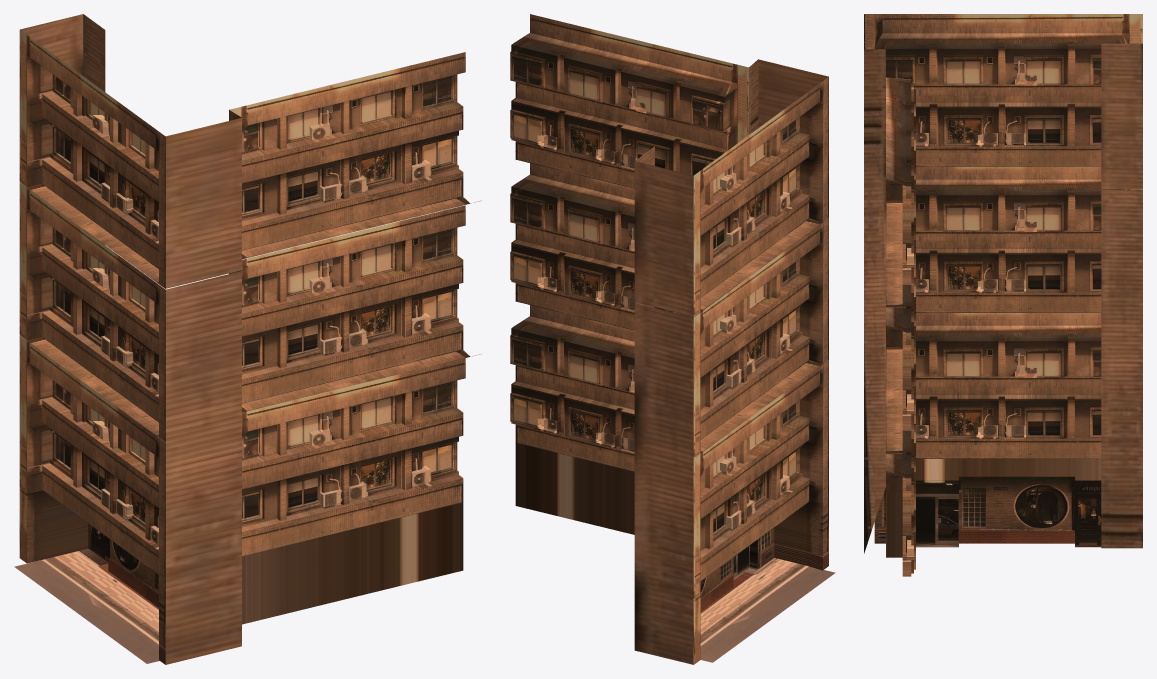
3 renders of one model, left to right at view 1: azimuth 30°, elevation 25°; view 2: azimuth 150°, elevation 25°; view 3: azimuth 270°, elevation 25°, orthographic. The views are drawn at different scales.
Visible parts, largest first — view 1: 2 (1).002_2 (1)_0; view 2: 2 (1).002_2 (1)_0; view 3: 2 (1).002_2 (1)_0.
Boxes of the visible parts, left/top/right/bottom form: 2 (1).002_2 (1)_0: left=14, top=14, right=481, bottom=664; 2 (1).002_2 (1)_0: left=510, top=14, right=835, bottom=664; 2 (1).002_2 (1)_0: left=864, top=14, right=1142, bottom=576.
Bounding box in the file's own units: 0.9095 × 1.35 × 0.6748.
1 material, 1 textured.
